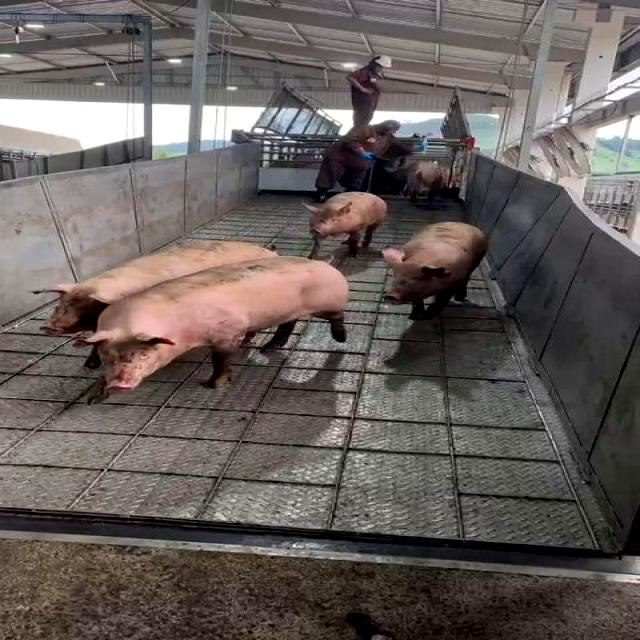pig: (83, 259, 347, 390), (43, 242, 276, 332), (383, 223, 488, 318), (307, 192, 386, 256)
